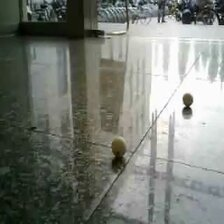w: (111, 137, 129, 157), (182, 93, 194, 107)
